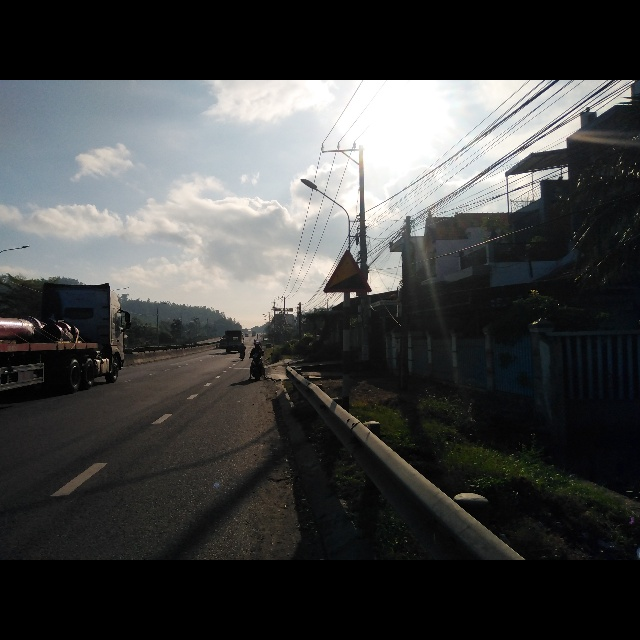Dốc lên nguy hiểm: (322, 249, 374, 293)
